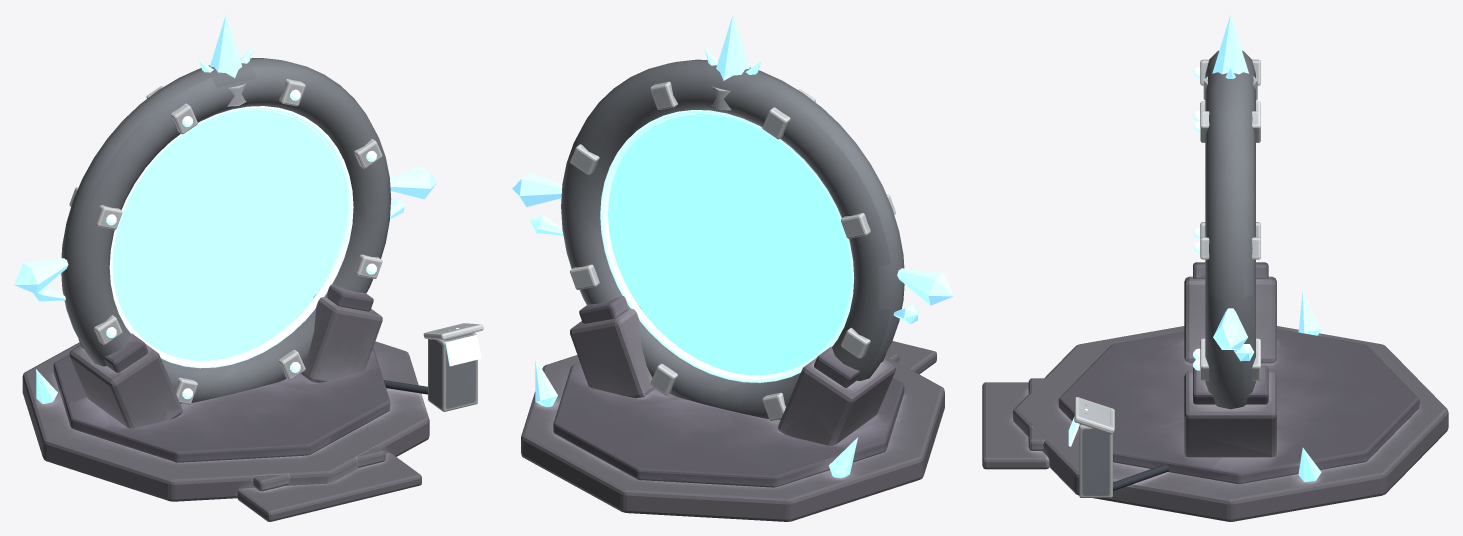
The model's file is gate_painted.glb.
3 views of the same model, side by side, from view 1: azimuth 30°, elevation 25°; view 2: azimuth 150°, elevation 25°; view 3: azimuth 270°, elevation 25° (orthographic). The views are drawn at different scales.
Parts seen in each view (by area): view 1: Gate, Portal; view 2: Gate, Portal; view 3: Gate.
Part boxes in pixels (bbox=[...]): Gate: bbox=[14, 14, 483, 521]; Portal: bbox=[112, 110, 345, 360]; Gate: bbox=[512, 15, 953, 521]; Portal: bbox=[608, 114, 851, 375]; Gate: bbox=[982, 14, 1448, 521].
Bounding box in the file's own units: 6.02 × 5.47 × 5.54.
Materials: 11 (6 with a texture image).
